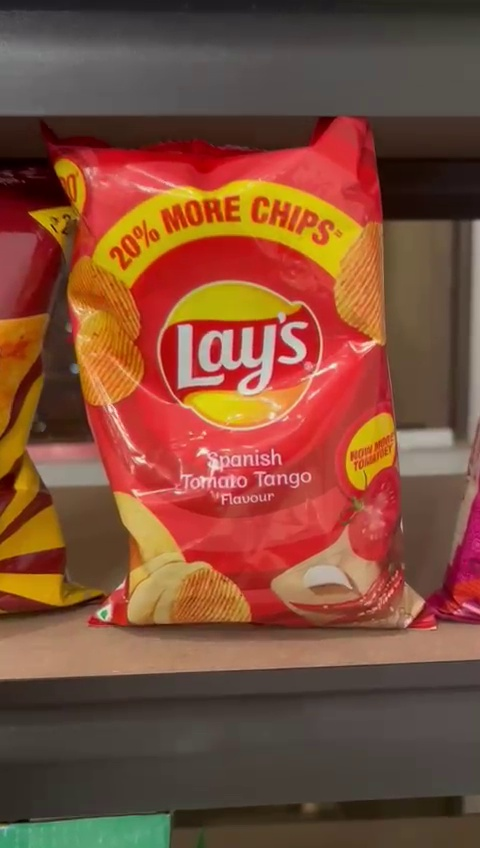Lays: (46, 140, 436, 622)
